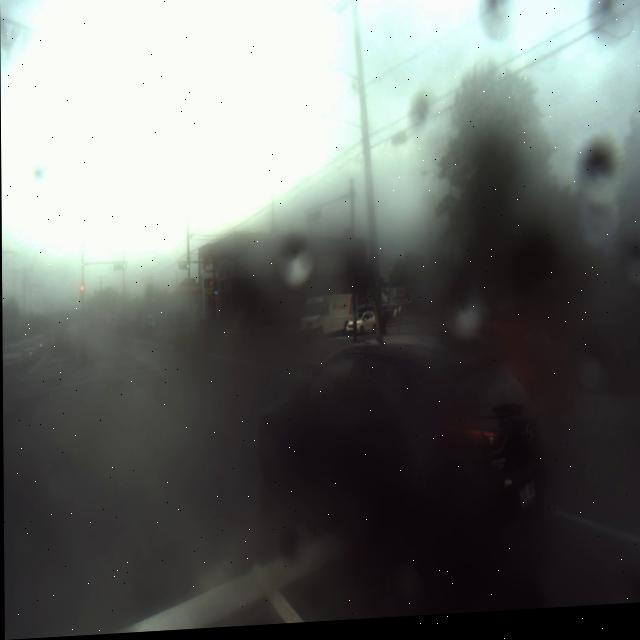car: (249, 318, 539, 585)
